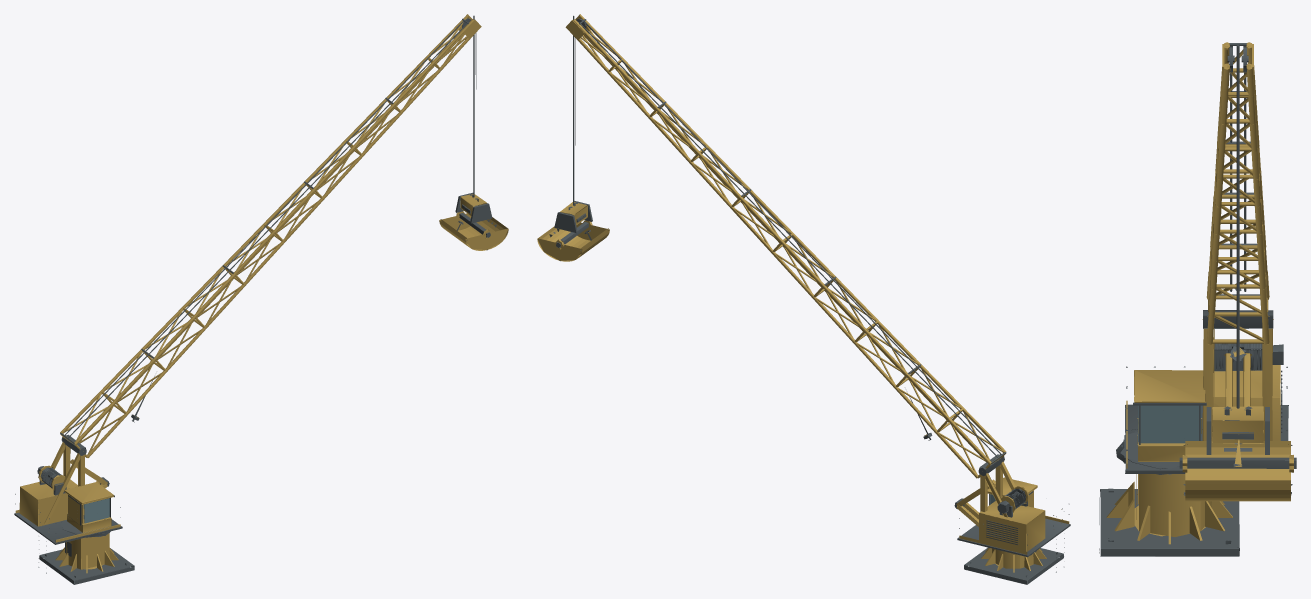
Rendered from bulk_distance.glb.
3 views of the same model, side by side, from view 1: azimuth 30°, elevation 25°; view 2: azimuth 150°, elevation 25°; view 3: azimuth 270°, elevation 25° (orthographic). The views are drawn at different scales.
Parts seen in each view (by area): view 1: bulk_distance; view 2: bulk_distance; view 3: bulk_distance.
Boxes of the visible parts, x1,y1,x2,y2 form: bulk_distance: (14, 14, 508, 584); bulk_distance: (537, 14, 1070, 584); bulk_distance: (1099, 42, 1296, 556).
Size of the model in its own units: 41.73 by 37.12 by 7.59.
